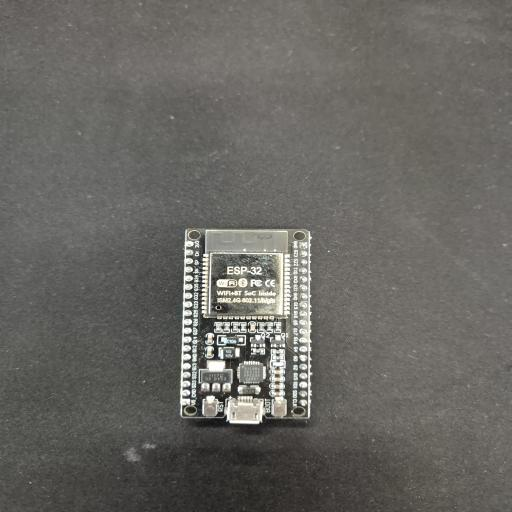esp32-dev: (181, 229, 310, 424)
